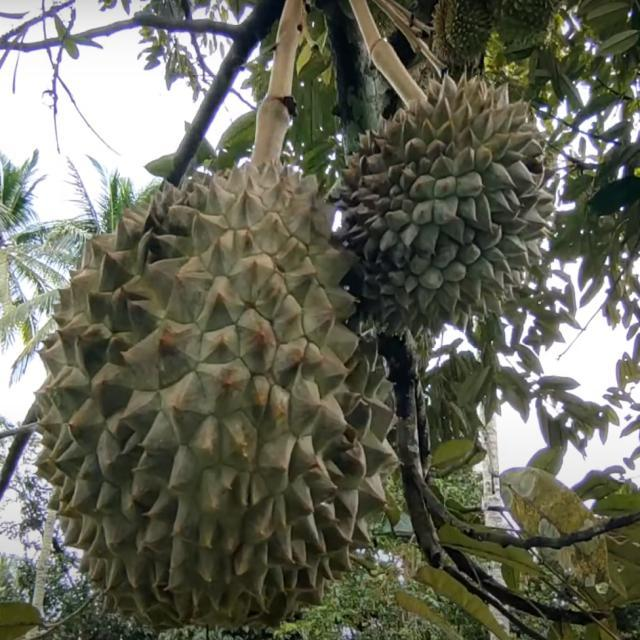immature: (31, 145, 404, 627), (341, 76, 559, 345)
